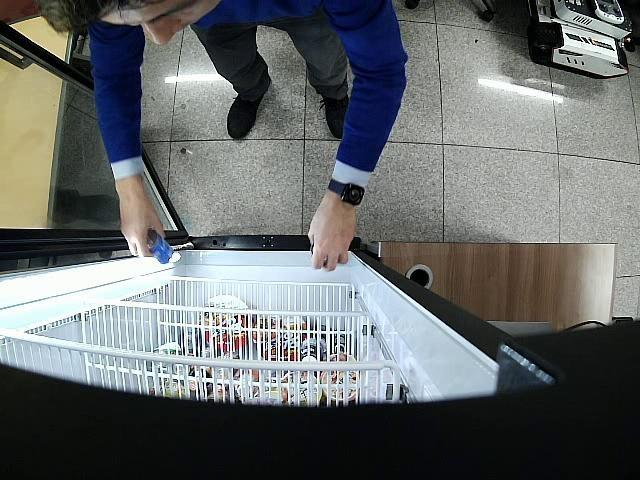15_letsbe: (148, 229, 172, 264)
